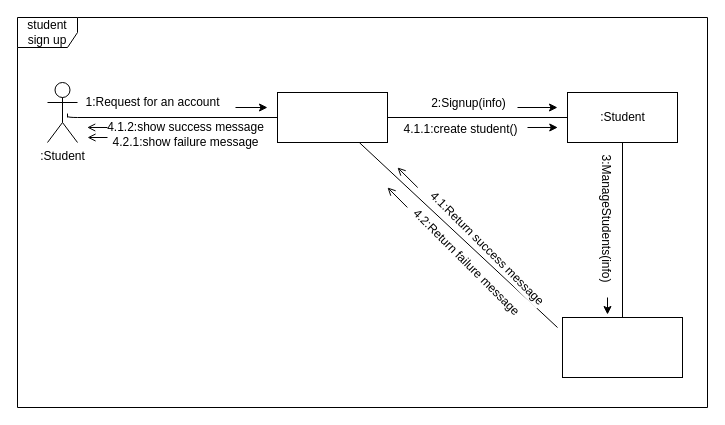
Some shapes in this 725 by 425 pixel diagram are drawn without their labels. Here are the shapes that lost their labels. From the top down, the centre of each, then its label:
At (332,117): "System".
At (622,347): ":Admin".
